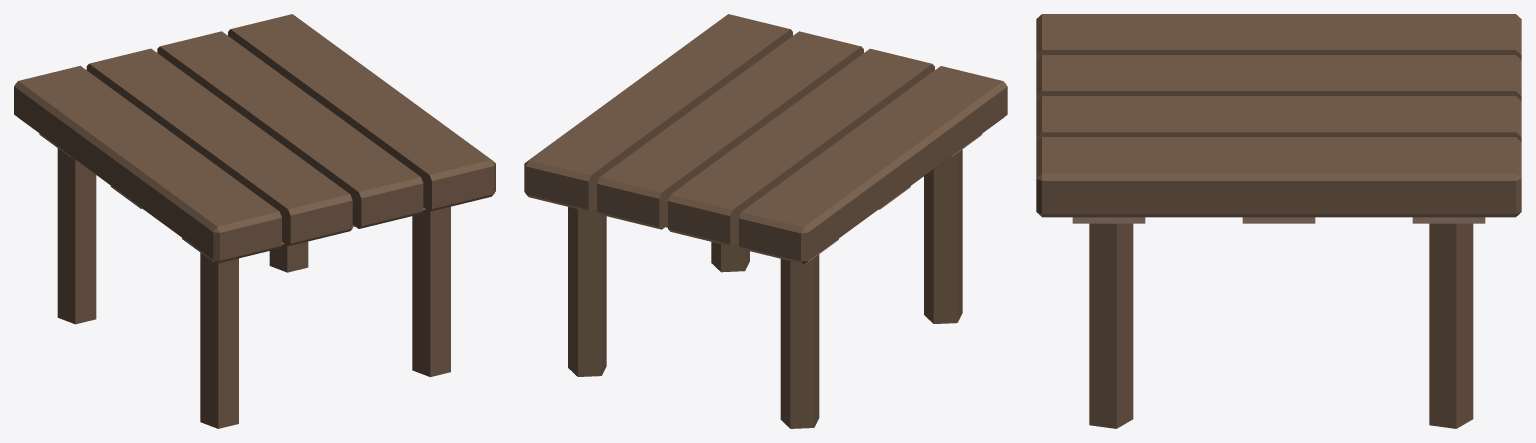
File: MASA.fbx
3 renders of one model, left to right at view 1: azimuth 30°, elevation 25°; view 2: azimuth 150°, elevation 25°; view 3: azimuth 270°, elevation 25°, orthographic. The views are drawn at different scales.
Visible parts, largest first — view 1: Cube, Cylinder.003, Cylinder.001, Cylinder, Cylinder.002; view 2: Cube, Cylinder.001, Cylinder.002, Cylinder.003, Cylinder; view 3: Cube, Cylinder, Cylinder.002, Cube.001, Cube.002, Cube.003.
Part boxes in pixels (<box>): Cube: <box>14,14,495,263</box>; Cylinder.003: <box>200,253,238,428</box>; Cylinder.001: <box>57,148,96,324</box>; Cylinder: <box>412,206,450,377</box>; Cylinder.002: <box>269,241,308,272</box>; Cube: <box>524,14,1007,264</box>; Cylinder.001: <box>780,254,819,428</box>; Cylinder.002: <box>568,207,606,376</box>; Cylinder.003: <box>924,149,962,323</box>; Cylinder: <box>711,242,749,272</box>; Cube: <box>1036,14,1521,217</box>; Cylinder: <box>1089,223,1133,428</box>; Cylinder.002: <box>1429,223,1473,428</box>; Cube.001: <box>1072,217,1145,223</box>; Cube.002: <box>1242,217,1315,223</box>; Cube.003: <box>1412,217,1485,223</box>.
Size of the model in its own units: 80 by 60 by 100.
